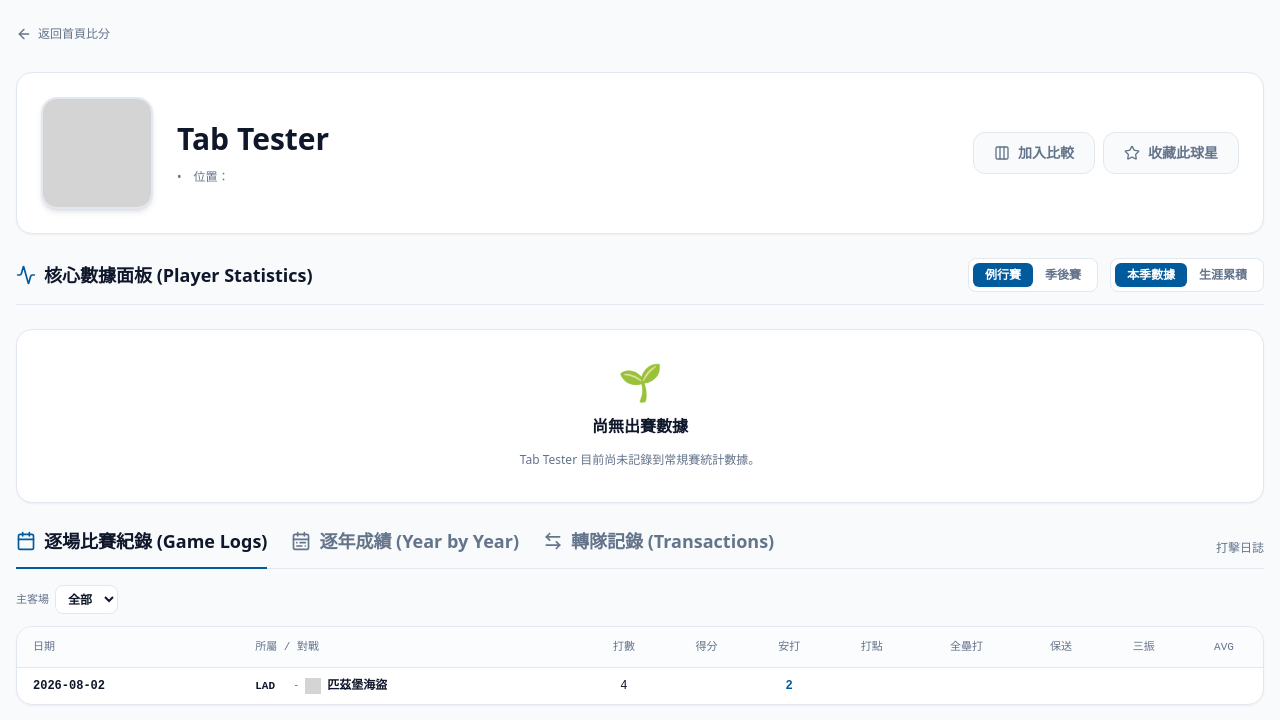
PlayerDetailPage game logs and transactions tabs › opens on the game logs and loads transactions only when their tab is chosen
Check: the text "2026-08-02" is shown, box top-left (17, 667), bottom-right (243, 704)
Step 1. Click the tab "轉隊記錄 (Transactions)" → (659, 548), box top-left (543, 526), bottom-right (774, 568)
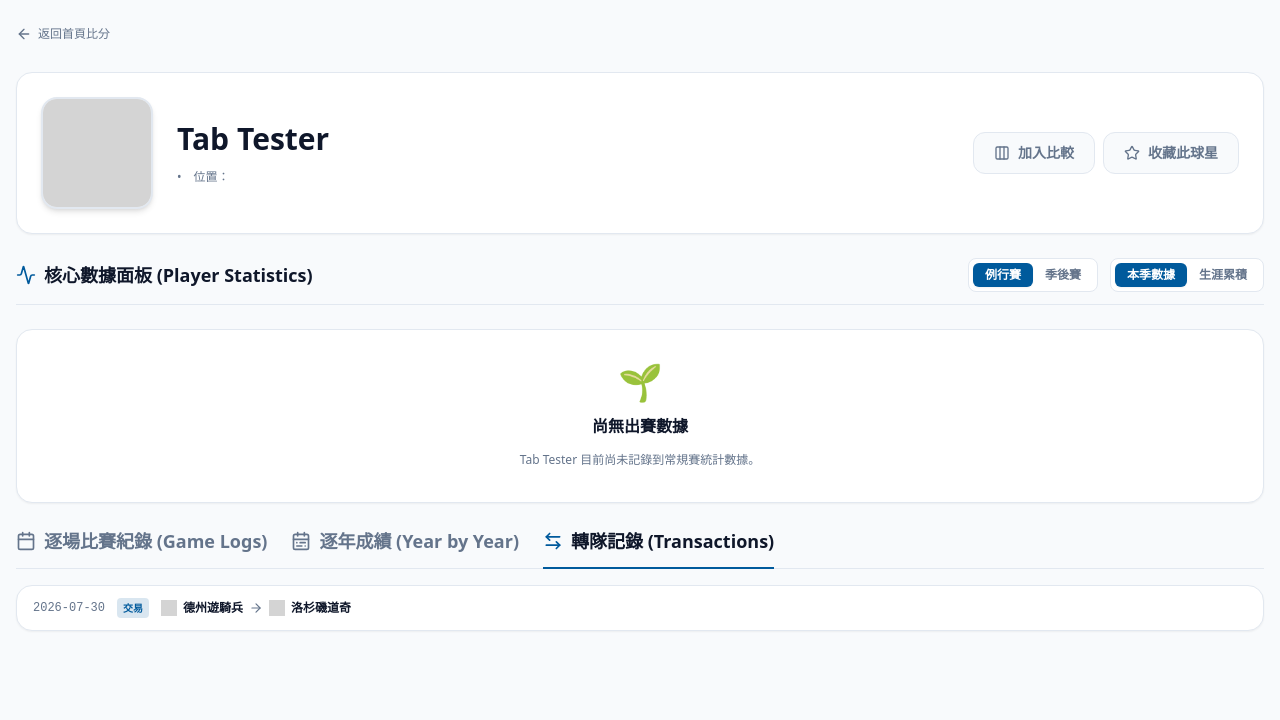
Check: the text "交易" is shown, box top-left (117, 598), bottom-right (149, 618)
Check: the panel named "轉隊記錄" is shown, box top-left (16, 584), bottom-right (1264, 630)
Check: the text "2026-08-02" is gone
Step 2. Click the tab "逐場比賽紀錄 (Game Logs)" → (142, 548), box top-left (16, 526), bottom-right (267, 568)
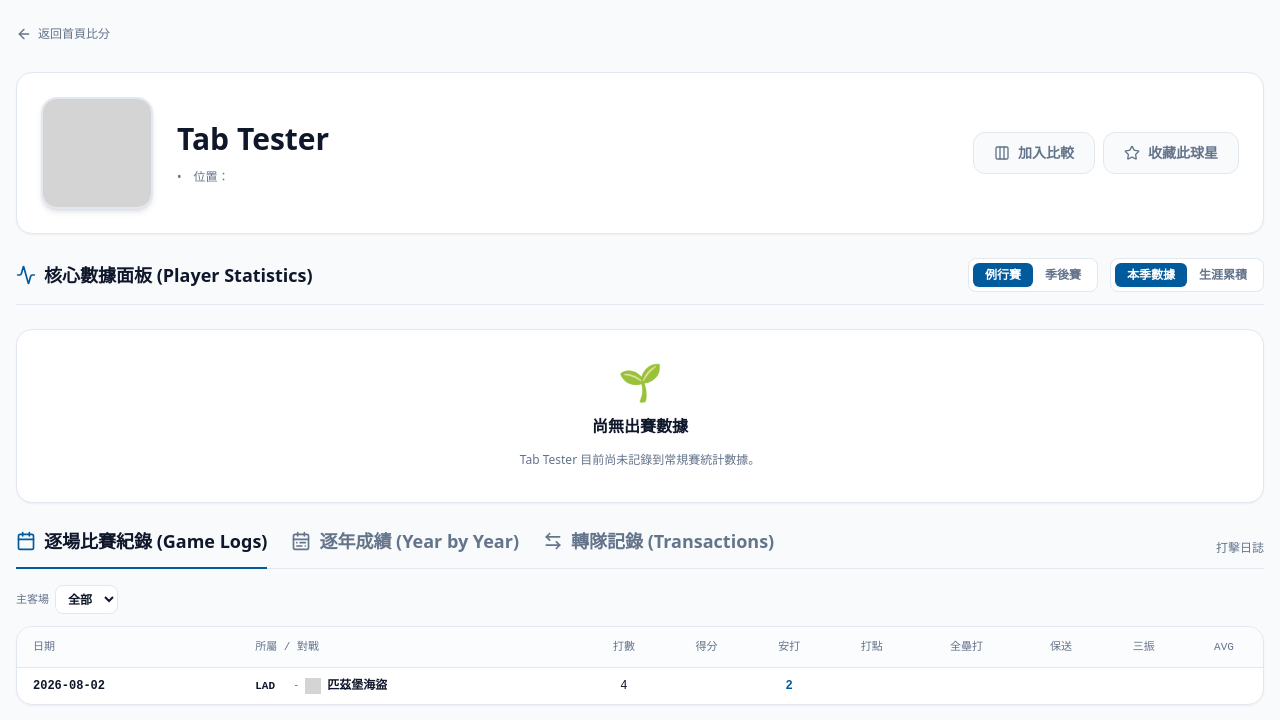
Check: the text "2026-08-02" is shown, box top-left (17, 667), bottom-right (243, 704)
Check: the text "交易" is gone
